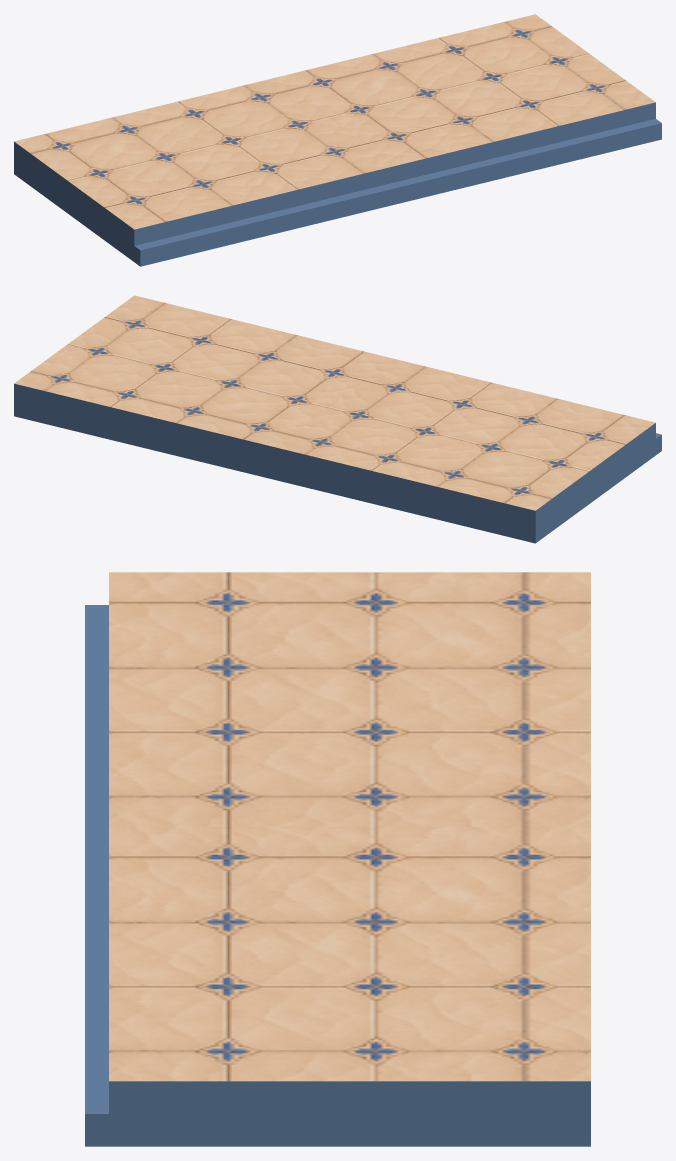
The model's file is Pool_EdgeStone.fbx.
3 views of the same model, one above another, from view 1: azimuth 30°, elevation 25°; view 2: azimuth 150°, elevation 25°; view 3: azimuth 270°, elevation 25° (orthographic). The views are drawn at different scales.
Parts seen in each view (by area): view 1: Pool_EdgeStone; view 2: Pool_EdgeStone; view 3: Pool_EdgeStone.
Boxes of the visible parts, left/top/right/bottom form: Pool_EdgeStone: left=14, top=14, right=661, bottom=266; Pool_EdgeStone: left=14, top=295, right=661, bottom=543; Pool_EdgeStone: left=85, top=572, right=590, bottom=1146.
Bounding box in the file's own units: 1 × 0.06 × 0.42.
Materials: 1 (1 with a texture image).
